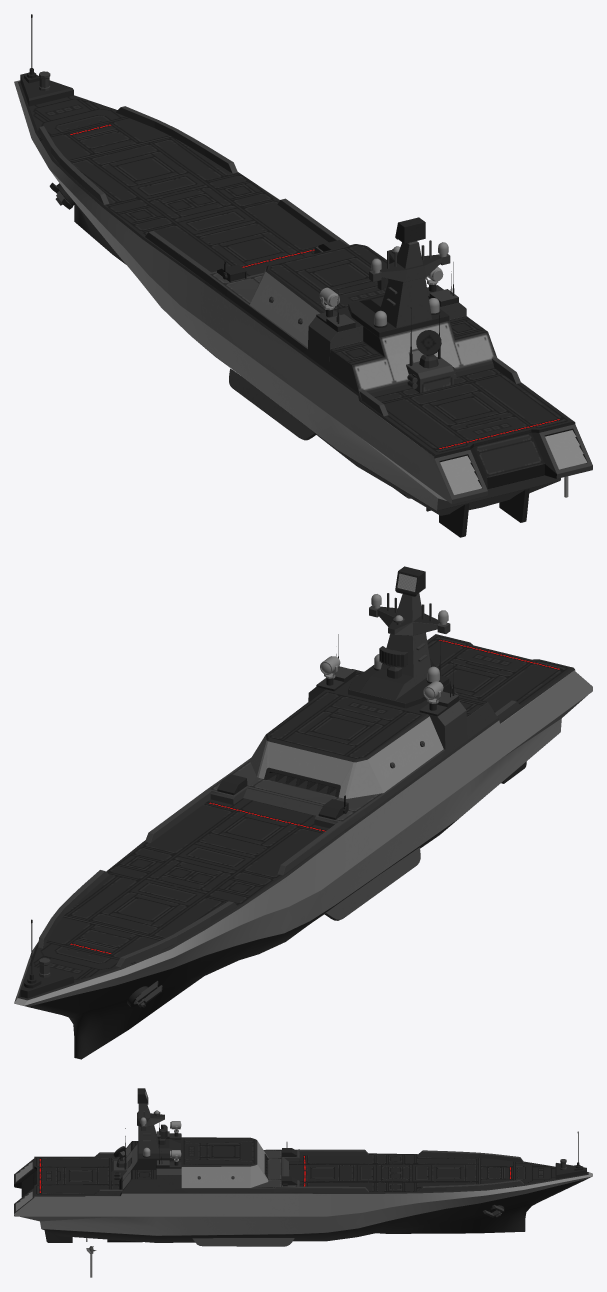
Rendered from large_navy_boat.fbx.
The picture shows the model from 3 angles, top to bottom: view 1: azimuth 30°, elevation 25°; view 2: azimuth 150°, elevation 25°; view 3: azimuth 270°, elevation 25°; orthographic projection. The views are drawn at different scales.
Visible parts, largest first — view 1: large_navy_boat; view 2: large_navy_boat; view 3: large_navy_boat.
Boxes of the visible parts, x1,y1,x2,y2 form: large_navy_boat: [14, 14, 592, 537]; large_navy_boat: [14, 566, 592, 1059]; large_navy_boat: [14, 1088, 592, 1246].
Bounding box in the file's own units: 2534 × 3424 × 11587.
Materials: 2 (1 with a texture image).
